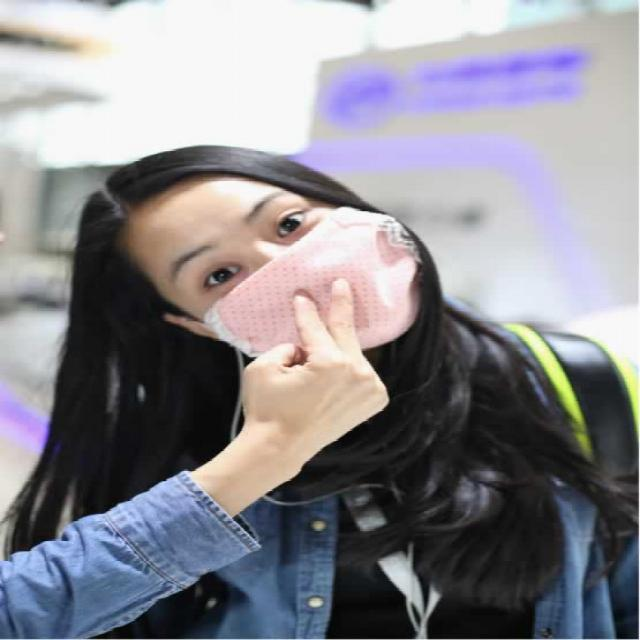mask: (152, 178, 384, 368)
